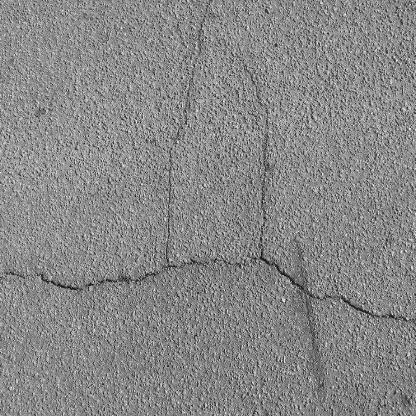Cracks: (0, 259, 416, 330), (165, 0, 228, 197), (242, 65, 275, 264), (157, 191, 180, 272)
